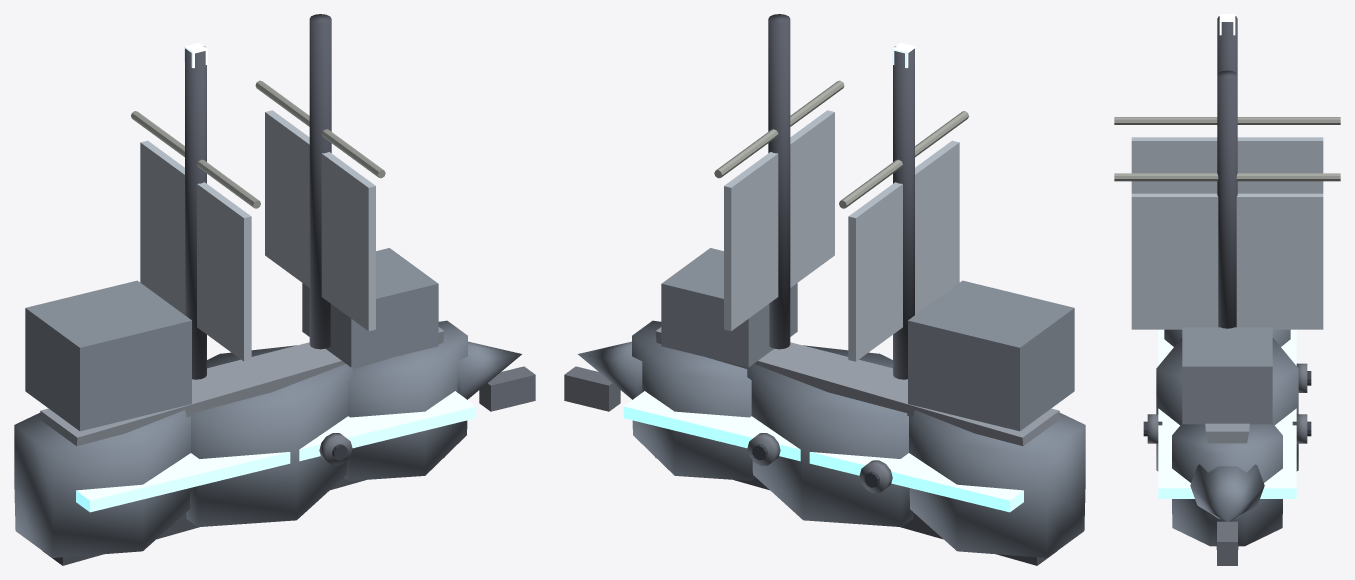
Rendered from Phantom_Warship.fbx.
3 views of the same model, side by side, from view 1: azimuth 30°, elevation 25°; view 2: azimuth 150°, elevation 25°; view 3: azimuth 270°, elevation 25° (orthographic). The views are drawn at different scales.
Parts seen in each view (by area): view 1: Phantom_Warship; view 2: Phantom_Warship; view 3: Phantom_Warship.
Part boxes in pixels (x1=…): Phantom_Warship: x1=14, y1=14, x2=535, y2=565; Phantom_Warship: x1=564, y1=14, x2=1085, y2=565; Phantom_Warship: x1=1114, y1=14, x2=1340, y2=565.
Bounding box in the file's own units: 1.99 × 1.82 × 0.85.
